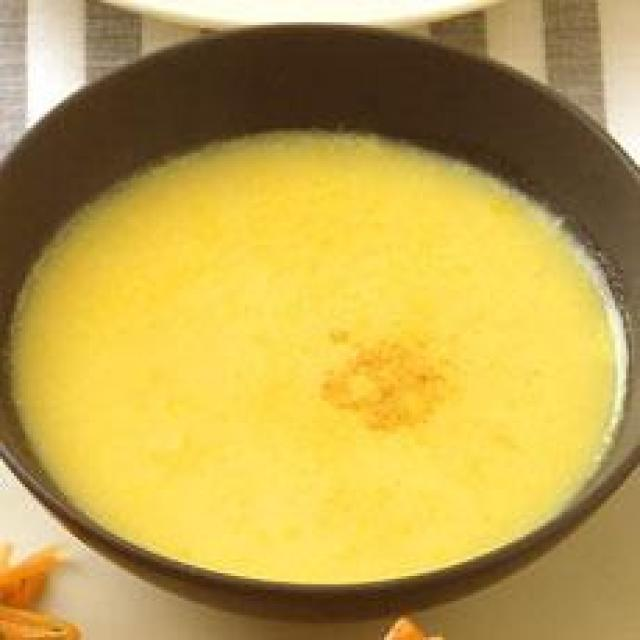汤锅炖物: (0, 17, 640, 626)
